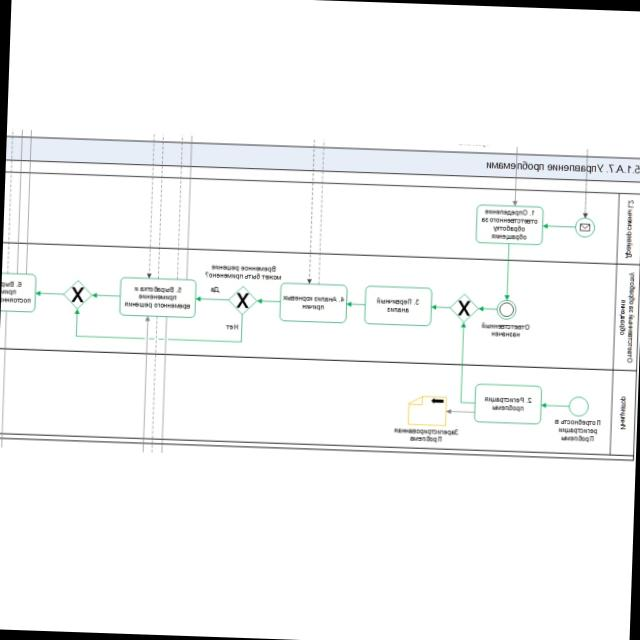arrow: (73, 308, 244, 344), (456, 321, 478, 404), (503, 244, 512, 300), (195, 294, 230, 304), (543, 222, 576, 231), (540, 400, 569, 409), (91, 291, 120, 300), (35, 289, 63, 297), (256, 297, 279, 306), (431, 302, 451, 311), (346, 300, 365, 309), (479, 304, 497, 313)
circle: (573, 216, 595, 238), (496, 298, 517, 320), (568, 395, 589, 417)
diamond: (62, 278, 93, 309), (449, 293, 478, 323), (227, 285, 256, 315)
rectangle: (119, 277, 196, 318), (474, 204, 543, 246), (473, 383, 540, 424), (278, 283, 346, 323), (363, 286, 431, 325)
text_region: (204, 261, 282, 281), (553, 417, 602, 443), (392, 425, 459, 444), (481, 321, 531, 339), (223, 322, 239, 332), (210, 285, 219, 294)
